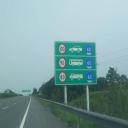speed_limit_100: (57, 43, 66, 55)
speed_limit_80: (58, 70, 67, 85)
speed_limit_90: (57, 56, 67, 69)
